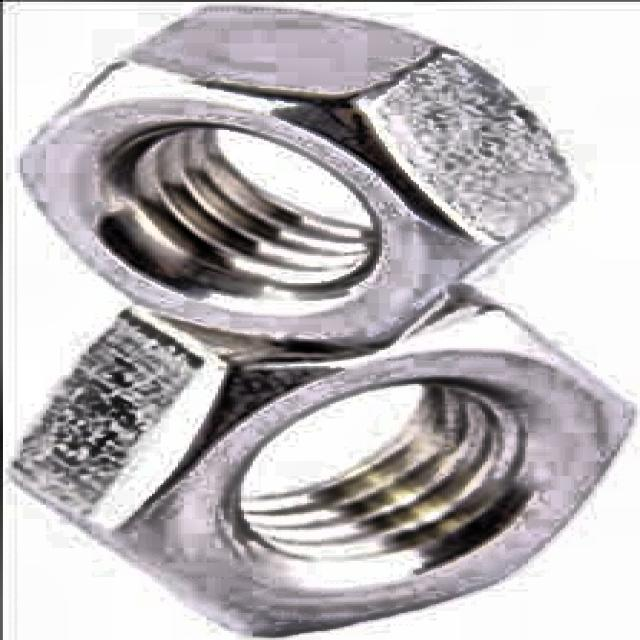Nut Detection - v1 Nut Dataset: (3, 9, 614, 352), (0, 314, 626, 629)
